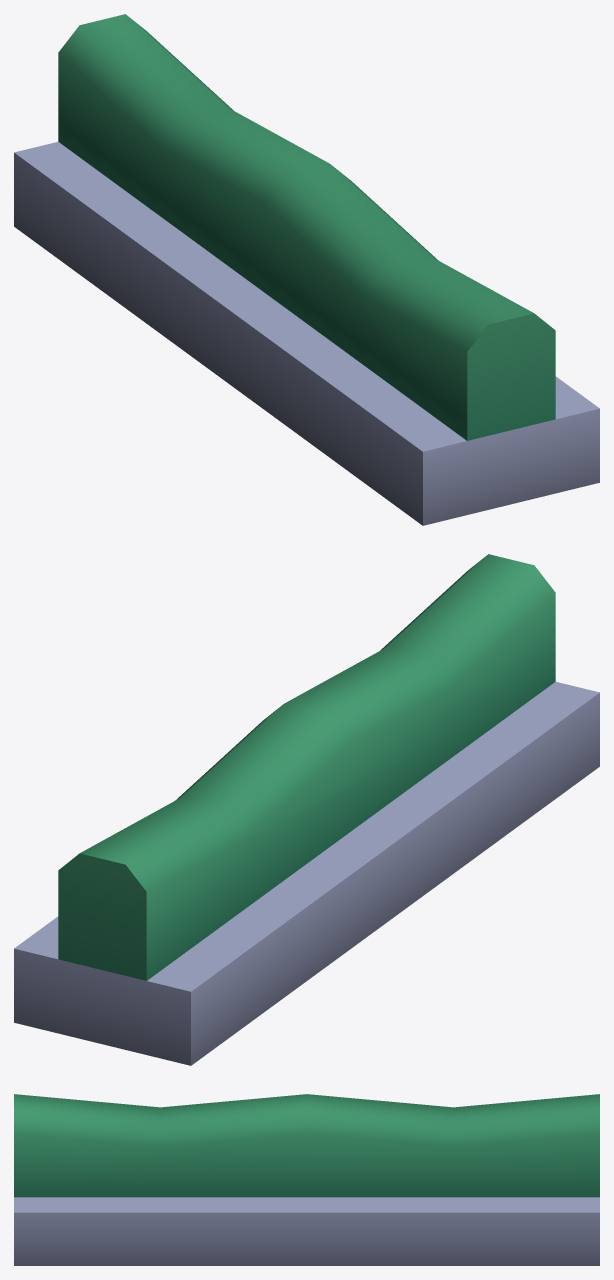
Rendered from T_hedge.glb.
The picture shows the model from 3 angles, top to bottom: view 1: azimuth 30°, elevation 25°; view 2: azimuth 150°, elevation 25°; view 3: azimuth 270°, elevation 25°; orthographic projection. The views are drawn at different scales.
Visible parts, largest first — view 1: hedge; view 2: hedge; view 3: hedge.
Boxes of the visible parts, x1,y1,x2,y2 form: hedge: [14, 14, 599, 525]; hedge: [14, 554, 599, 1065]; hedge: [14, 1094, 599, 1265].
Bounding box in the file's own units: 0.25 × 0.25 × 1.
